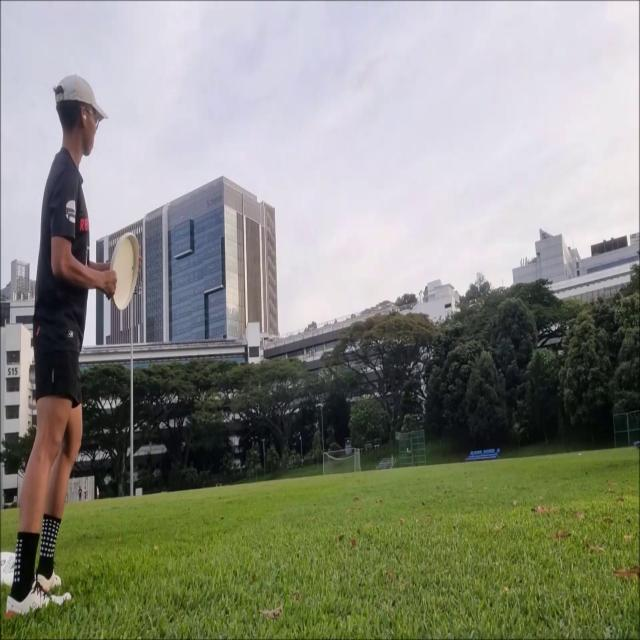disc: (108, 230, 140, 312)
